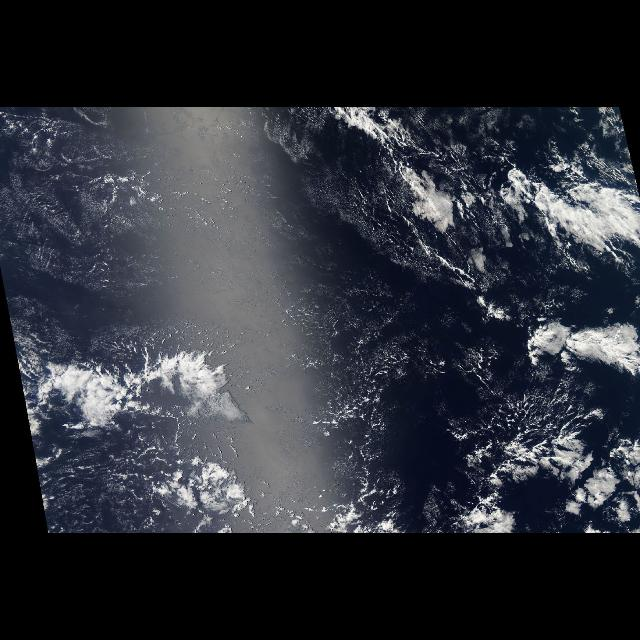Fish: (42, 346, 226, 432)
Gravel: (296, 378, 578, 484)
Sugar: (1, 120, 535, 490)
